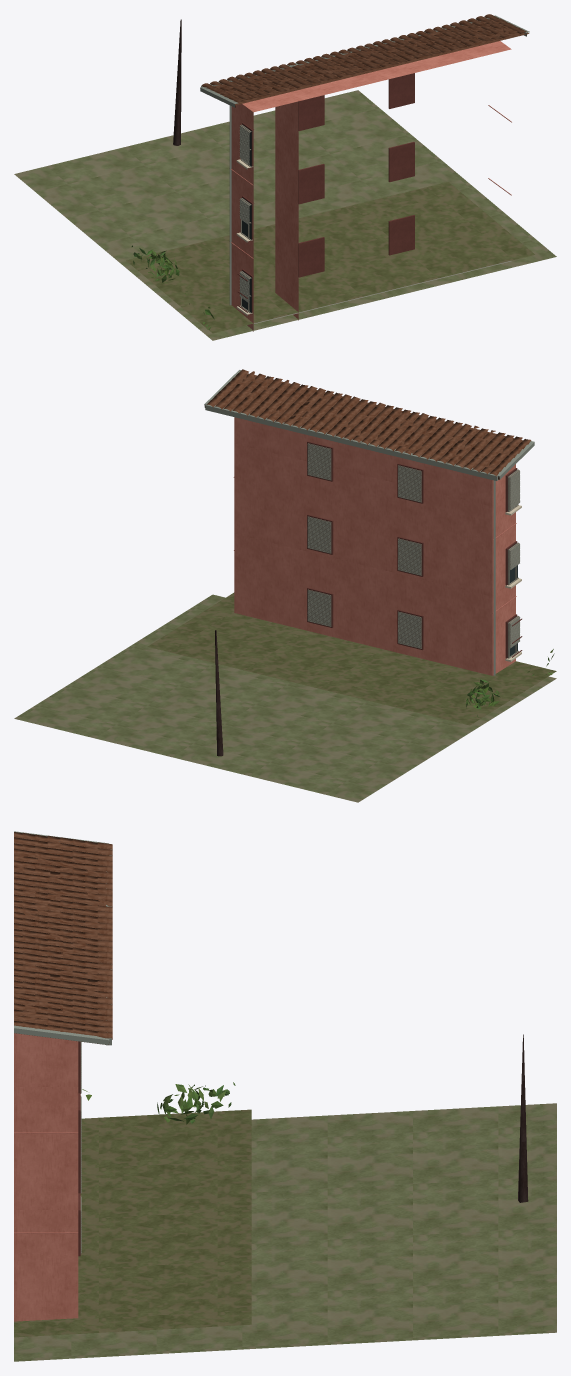
The picture shows the model from 3 angles, top to bottom: view 1: azimuth 30°, elevation 25°; view 2: azimuth 150°, elevation 25°; view 3: azimuth 270°, elevation 25°; orthographic projection. The views are drawn at different scales.
Size of the model in its own units: 16 by 10.4 by 16.
13 materials, 11 textured.
